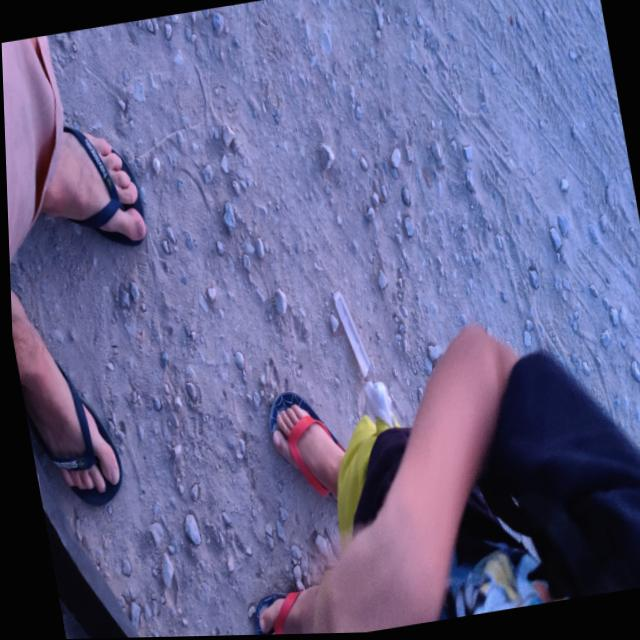Plastic: (324, 283, 370, 387)
